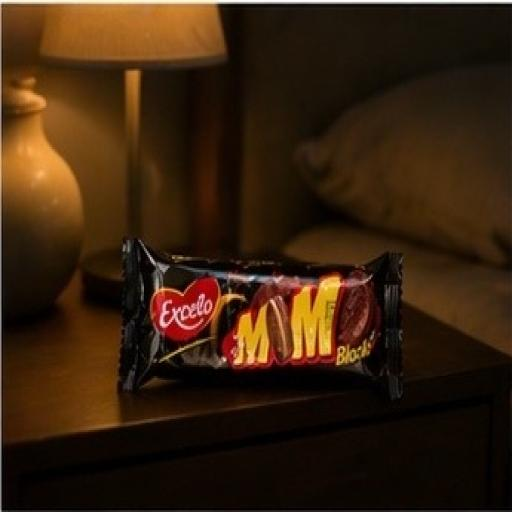MOMO: (76, 192, 464, 468)
